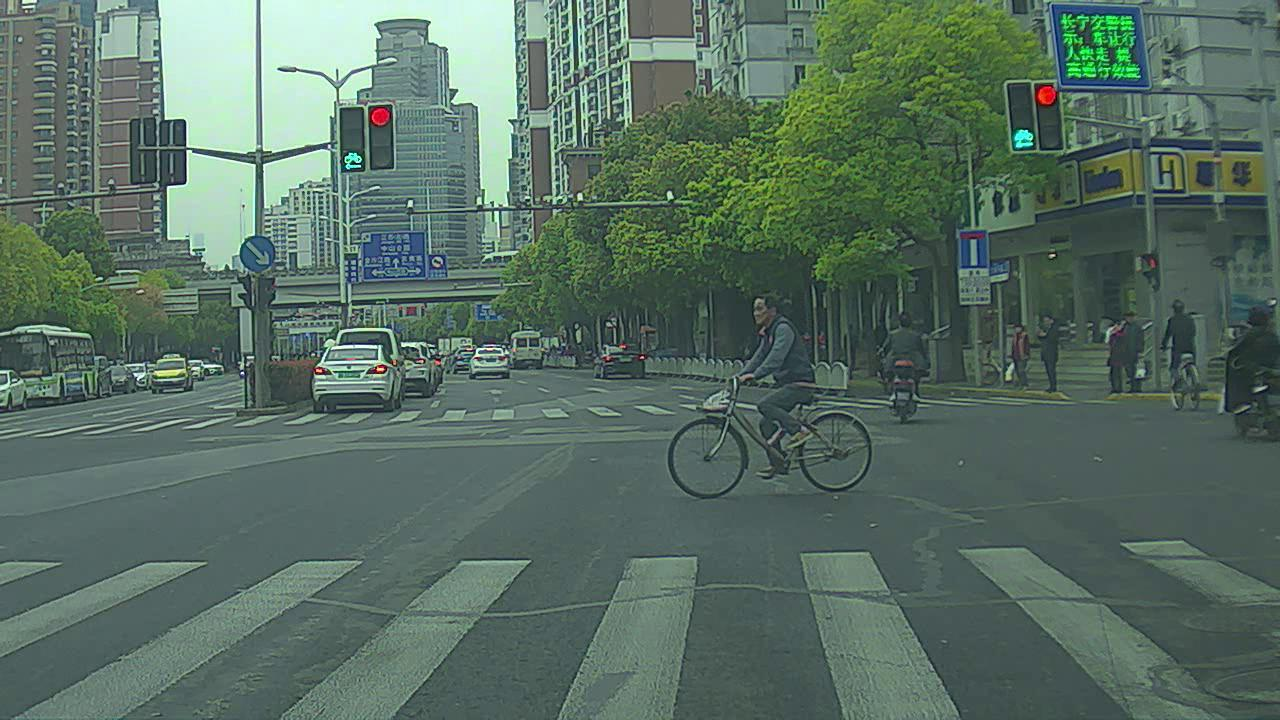traffic_light: (1002, 84, 1038, 155), (366, 99, 402, 169), (1036, 84, 1068, 151), (337, 106, 368, 174)
